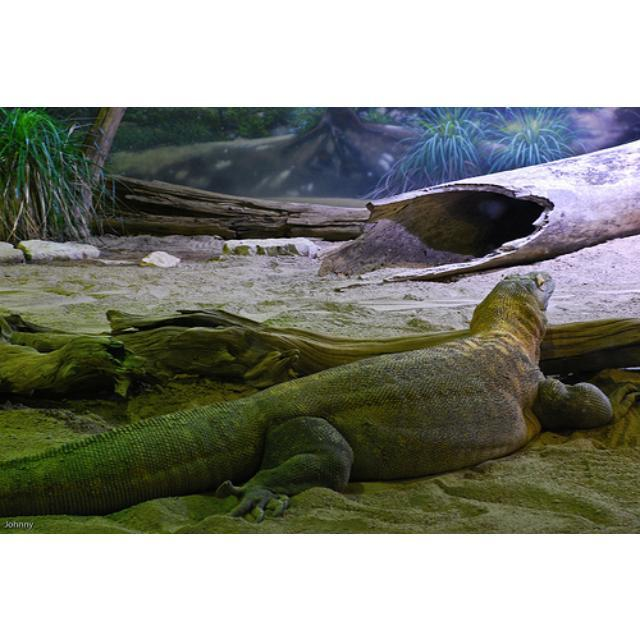KomodoDragon: (0, 269, 618, 526)
